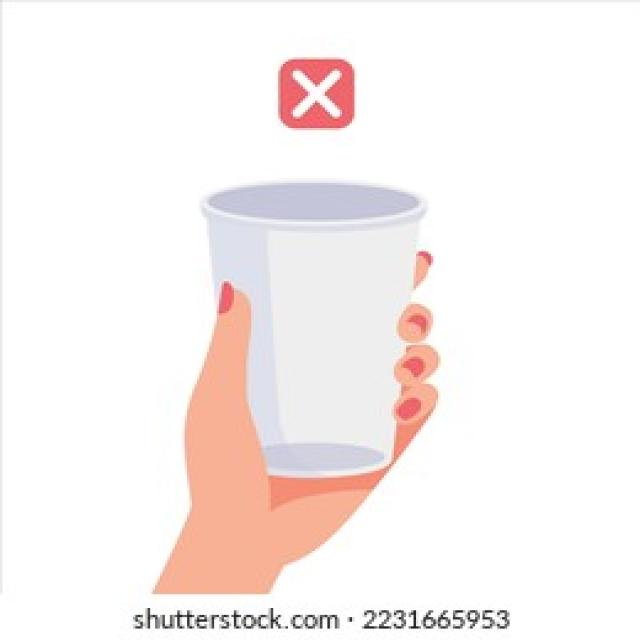plastic: (207, 187, 416, 480)
